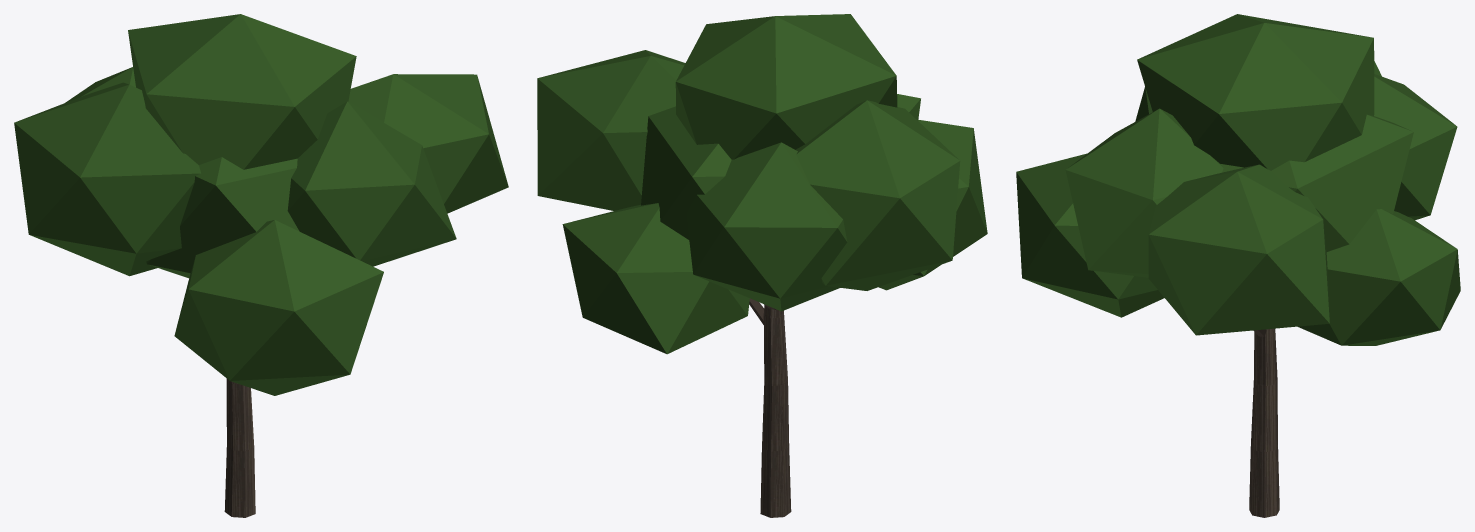
The model's file is tree_oak.glb.
The picture shows the model from 3 angles, left to right: view 1: azimuth 30°, elevation 25°; view 2: azimuth 150°, elevation 25°; view 3: azimuth 270°, elevation 25°; orthographic projection.
Visible parts, largest first — view 1: Tree_Oak; view 2: Tree_Oak; view 3: Tree_Oak.
Part boxes in pixels (left/top/right/bottom): Tree_Oak: left=14, top=14, right=508, bottom=517; Tree_Oak: left=537, top=14, right=987, bottom=517; Tree_Oak: left=1016, top=14, right=1460, bottom=517.
Bounding box in the file's own units: 6.86 × 7.54 × 6.22.
Materials: 2 (2 with a texture image).
